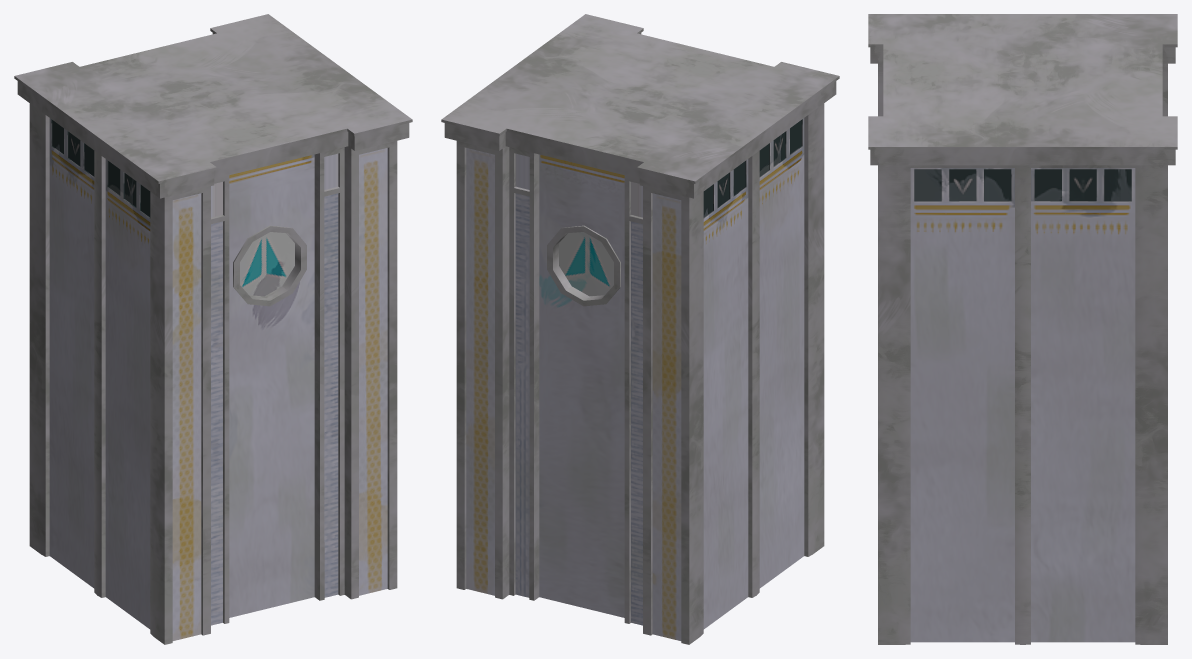
File: FoundationBuilding_B.fbx
3 views of the same model, side by side, from view 1: azimuth 30°, elevation 25°; view 2: azimuth 150°, elevation 25°; view 3: azimuth 270°, elevation 25° (orthographic). The views are drawn at different scales.
Visible parts, largest first — view 1: Floor_A; view 2: Floor_A; view 3: Floor_A.
Part boxes in pixels (box(x1,y1,x2,y2)): Floor_A: box(14, 14, 412, 644); Floor_A: box(441, 14, 839, 644); Floor_A: box(868, 14, 1177, 644).
Bounding box in the file's own units: 8447 × 14921 × 8307.
